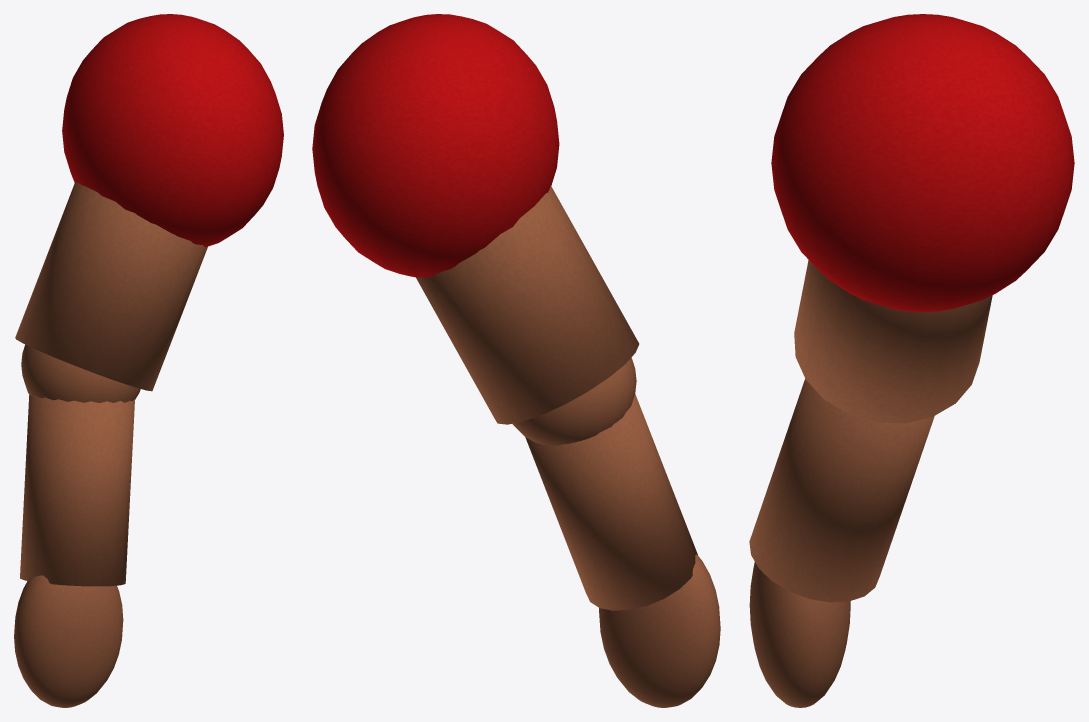
The model's file is jugador_rojo_brazo.obj.
The picture shows the model from 3 angles, left to right: view 1: azimuth 30°, elevation 25°; view 2: azimuth 150°, elevation 25°; view 3: azimuth 270°, elevation 25°; orthographic projection. The views are drawn at different scales.
Visible parts, largest first — view 1: Jugador_Rojo_Brazo_Piel, Jugador_Rojo_Brazo_Camiseta_Roja; view 2: Jugador_Rojo_Brazo_Piel, Jugador_Rojo_Brazo_Camiseta_Roja; view 3: Jugador_Rojo_Brazo_Camiseta_Roja, Jugador_Rojo_Brazo_Piel.
Part boxes in pixels (x1,y1,x2,y2): Jugador_Rojo_Brazo_Piel: [14, 182, 207, 707]; Jugador_Rojo_Brazo_Camiseta_Roja: [62, 14, 283, 247]; Jugador_Rojo_Brazo_Piel: [416, 186, 720, 707]; Jugador_Rojo_Brazo_Camiseta_Roja: [312, 14, 559, 277]; Jugador_Rojo_Brazo_Camiseta_Roja: [771, 14, 1074, 312]; Jugador_Rojo_Brazo_Piel: [749, 260, 992, 707].
Size of the model in its own units: 0.302 by 0.59 by 0.2252.
